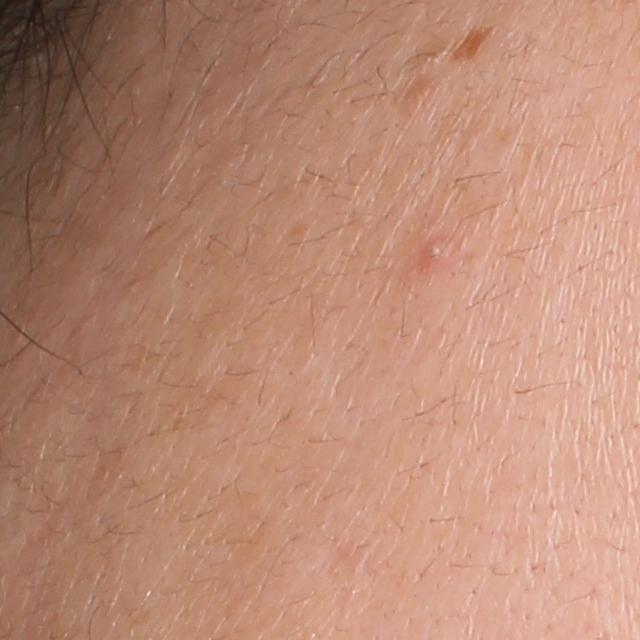melasma: (449, 26, 498, 65)
